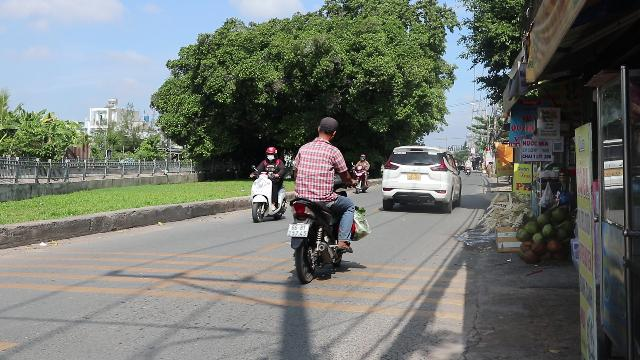helmet: (265, 146, 277, 160)
licenseplate: (287, 223, 309, 236)
motorcyclist: (284, 116, 364, 284), (248, 146, 288, 222)
nohelmet: (316, 116, 338, 140)
